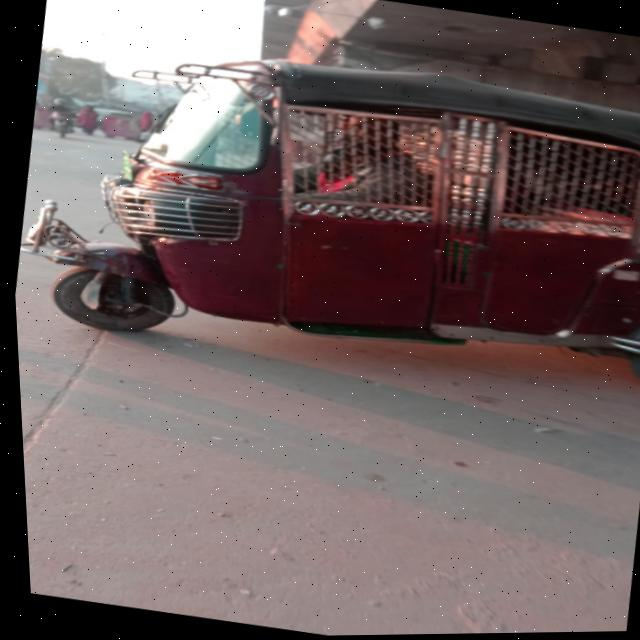cng: (85, 17, 640, 424)
